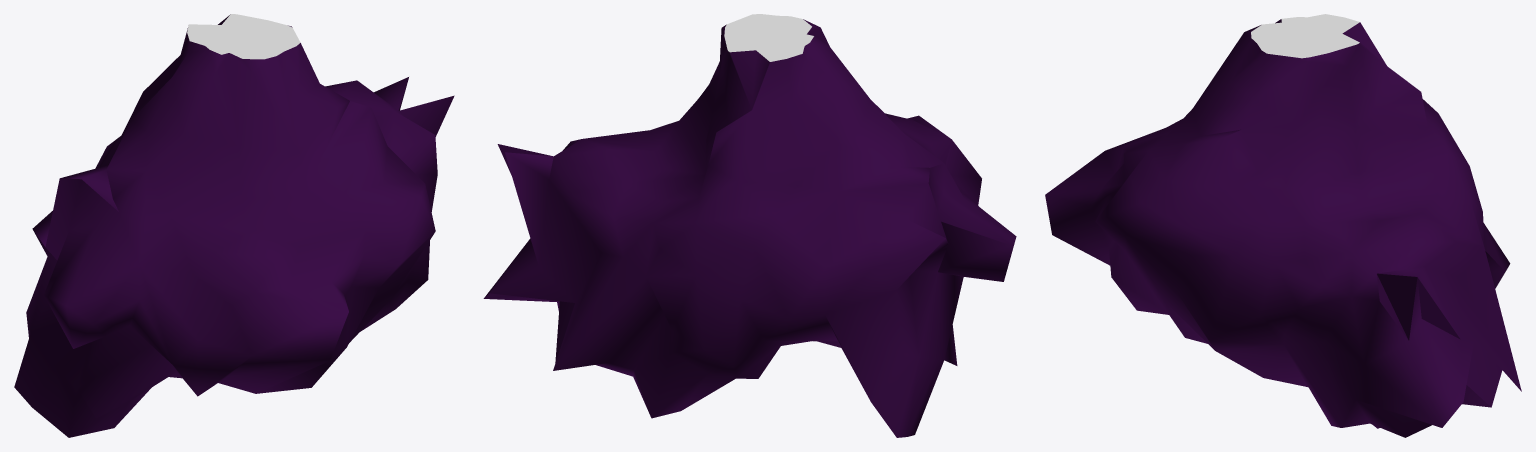
The model's file is Firewatch Island.fbx.
The picture shows the model from 3 angles, left to right: view 1: azimuth 30°, elevation 25°; view 2: azimuth 150°, elevation 25°; view 3: azimuth 270°, elevation 25°; orthographic projection. The views are drawn at different scales.
Parts seen in each view (by area): view 1: Sphere, Cube; view 2: Sphere, Cube; view 3: Sphere, Cube.
Boxes of the visible parts, bbox=[...] form: Sphere: bbox=[14, 14, 454, 437]; Cube: bbox=[187, 14, 300, 59]; Sphere: bbox=[483, 19, 1016, 437]; Cube: bbox=[724, 14, 813, 61]; Sphere: bbox=[1045, 19, 1521, 437]; Cube: bbox=[1251, 14, 1359, 58].
Size of the model in its own units: 1137 by 845 by 993.
